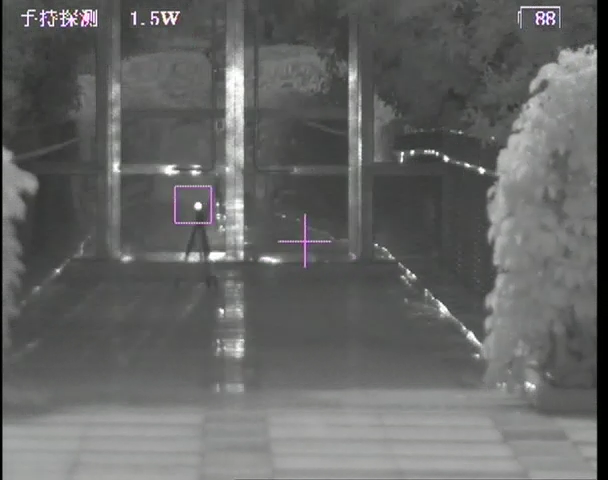my: (194, 201, 204, 213)
